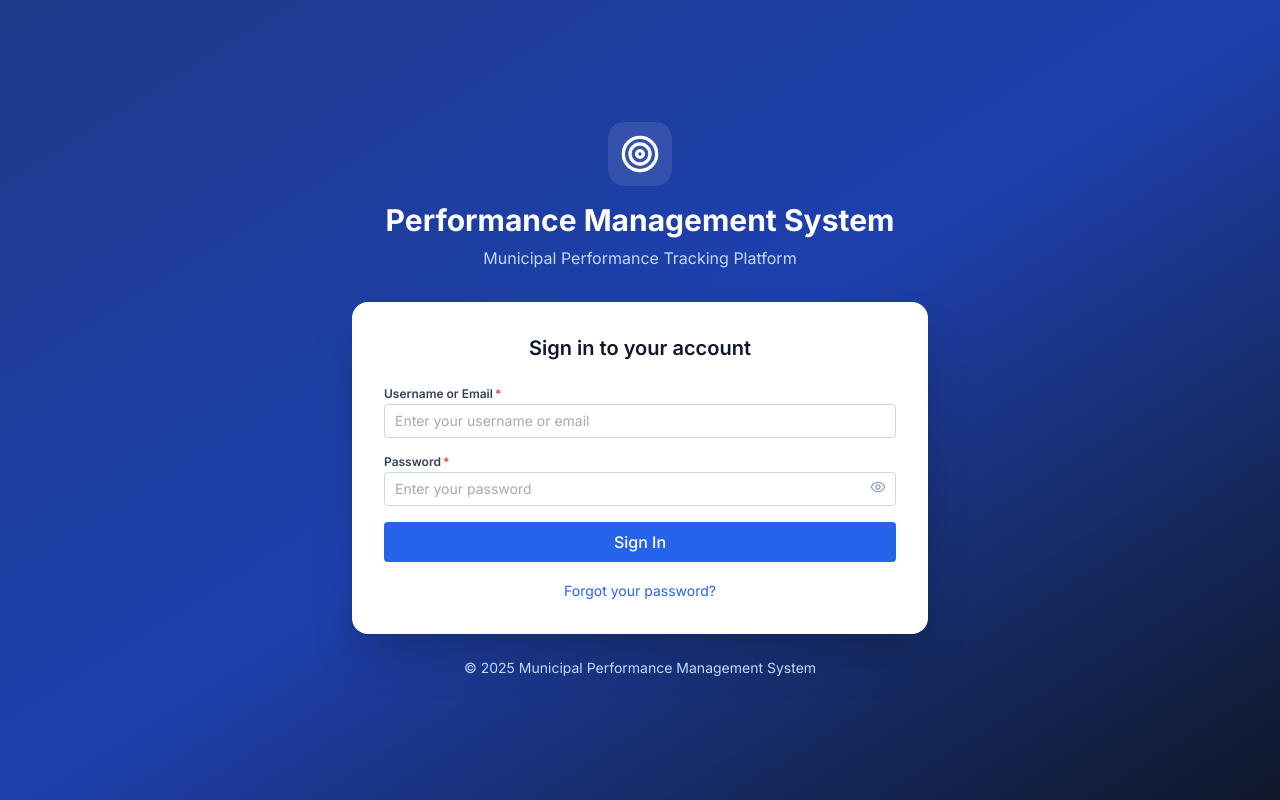
Test: MFA login challenge › resolves municipality authentication modes from the email without asking for a code
Type "admin@metro.example" into the field labelled "Username or Email*" at (640, 421), box x1=384 y1=404 x2=896 y2=438
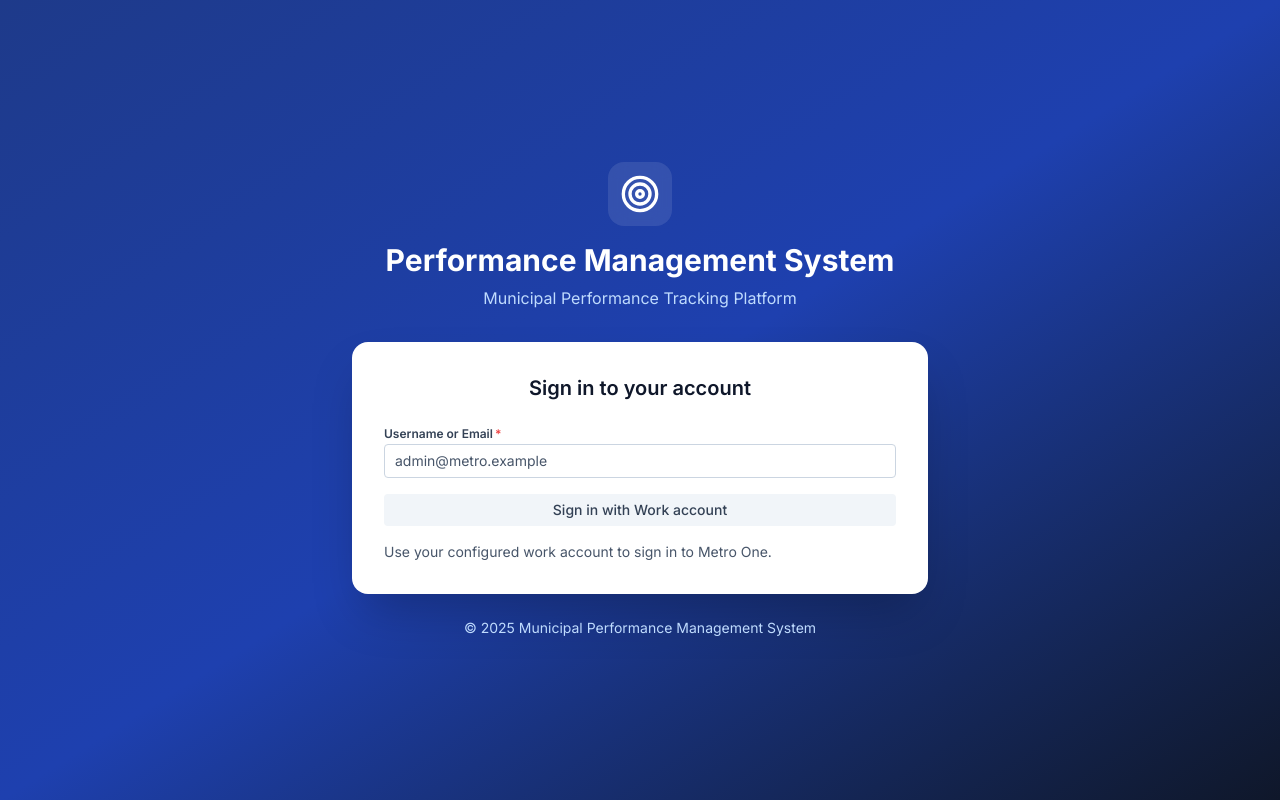
Now the button "Sign in with Work account" is shown, box x1=384 y1=494 x2=896 y2=526
Now the text "Use your configured work account to sign in to Metro One." is shown, box x1=384 y1=543 x2=772 y2=560
Now the label labelled "Password" is gone
